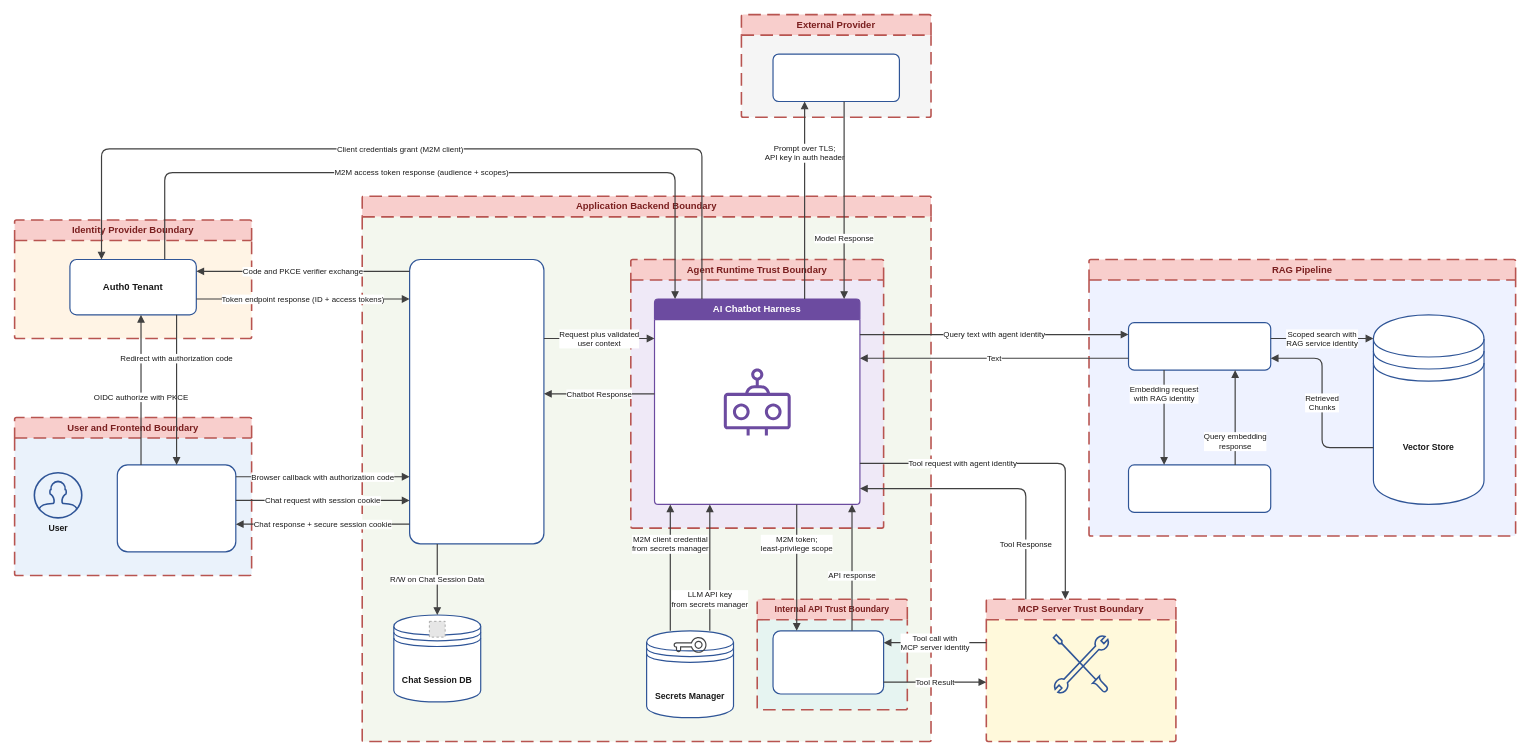
Some shapes in this 1529 by 755 pixel diagram are drawn without their labels. Grey dashed boxes stand in for pictures. The shapes that lost their labels are listed below. From the top down, each one's centre as x and y in pixels, then its label:
At point 836,77: "LLM Provider".
At point 1199,346: "RAG Service".
At point 476,401: "Chatbot Backend Endpoint".
At point 176,508: "User Interface".
At point 1199,488: "Embedding Service".
At point 828,662: "Internal REST APIs".
At point 1080,664: "MCP Server".
